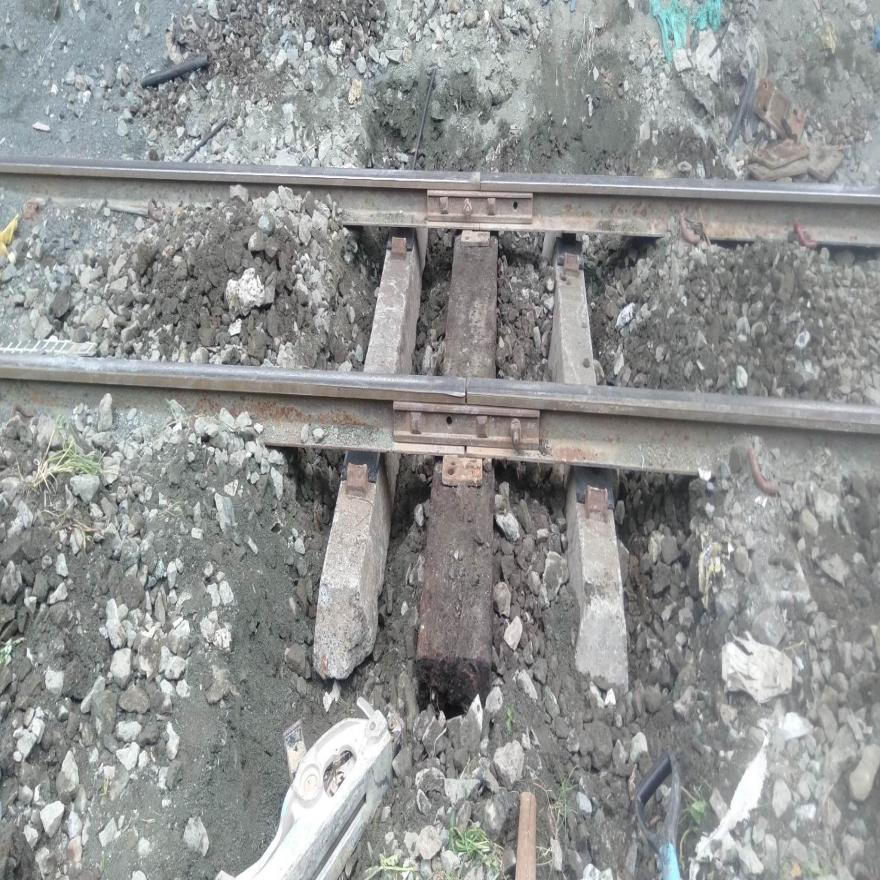railway-gap: (446, 356, 484, 423), (463, 152, 496, 212)
